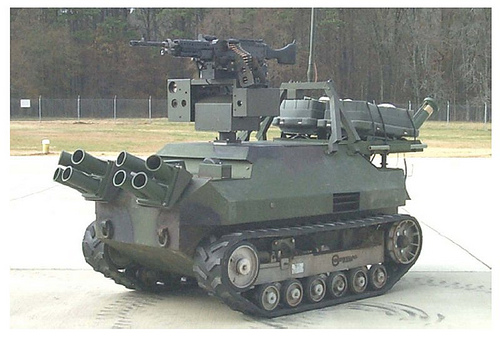rifle: (130, 20, 306, 81)
